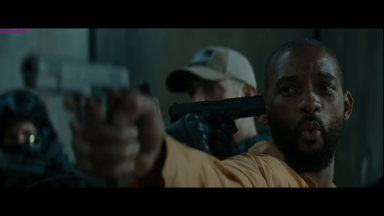firearm: (18, 51, 134, 122), (167, 93, 269, 142)
